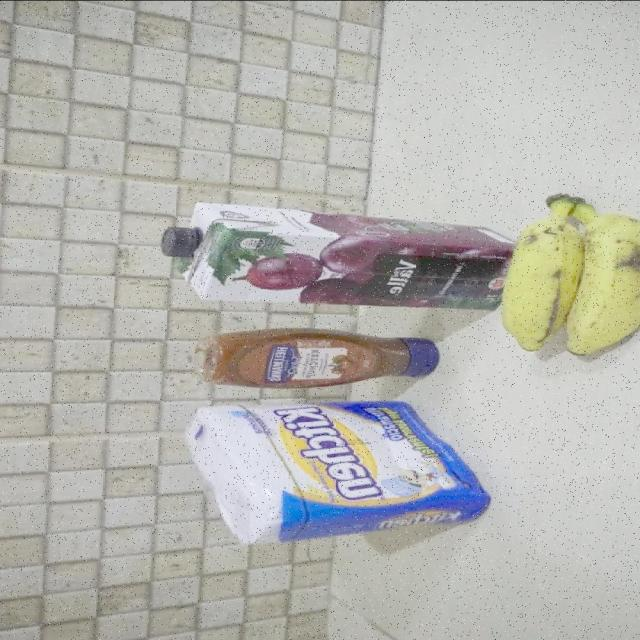Banana: (499, 191, 640, 357)
Ketchup: (194, 327, 438, 388)
Napkin: (183, 401, 493, 546)
